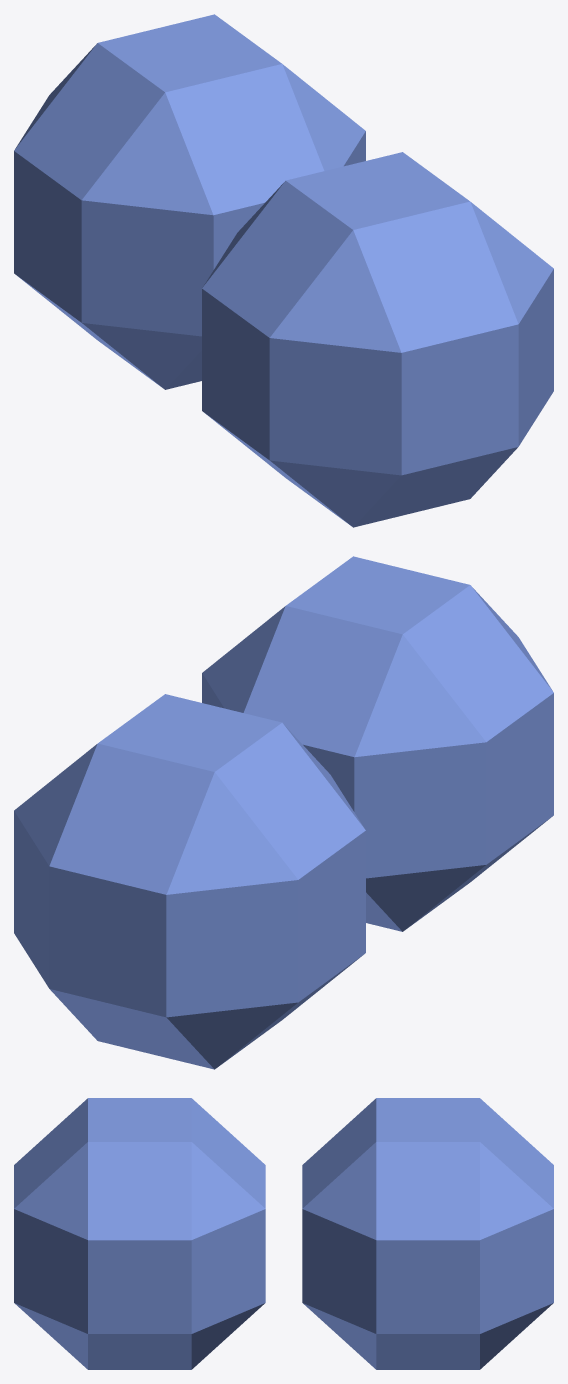
File: Baller.fbx
3 renders of one model, top to bottom at view 1: azimuth 30°, elevation 25°; view 2: azimuth 150°, elevation 25°; view 3: azimuth 270°, elevation 25°, orthographic. The views are drawn at different scales.
Visible parts, largest first — view 1: Cube, Cube.001; view 2: Cube.001, Cube; view 3: Cube, Cube.001.
Part boxes in pixels (x1,y1,x2,y2): Cube: (202,152,553,527); Cube.001: (14,14,365,389); Cube.001: (14,694,365,1069); Cube: (202,556,553,931); Cube: (14,1098,265,1369); Cube.001: (302,1098,553,1369).
Size of the model in its own units: 200 by 200 by 429.
